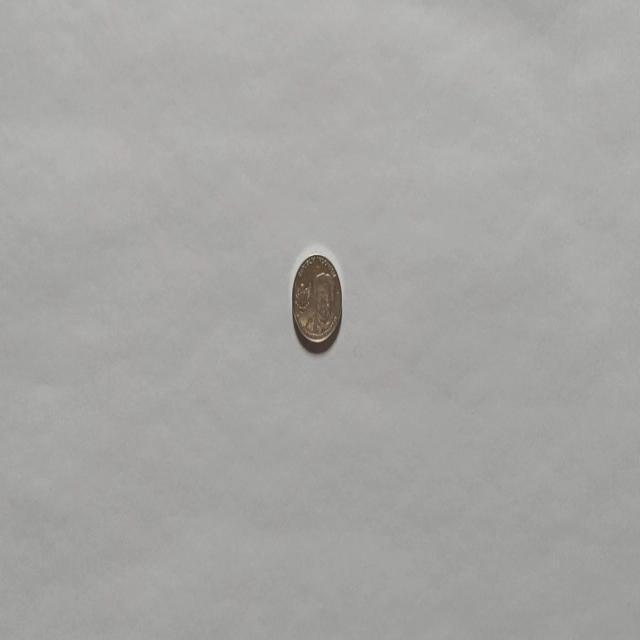seratus rupiah: (291, 251, 342, 345)
